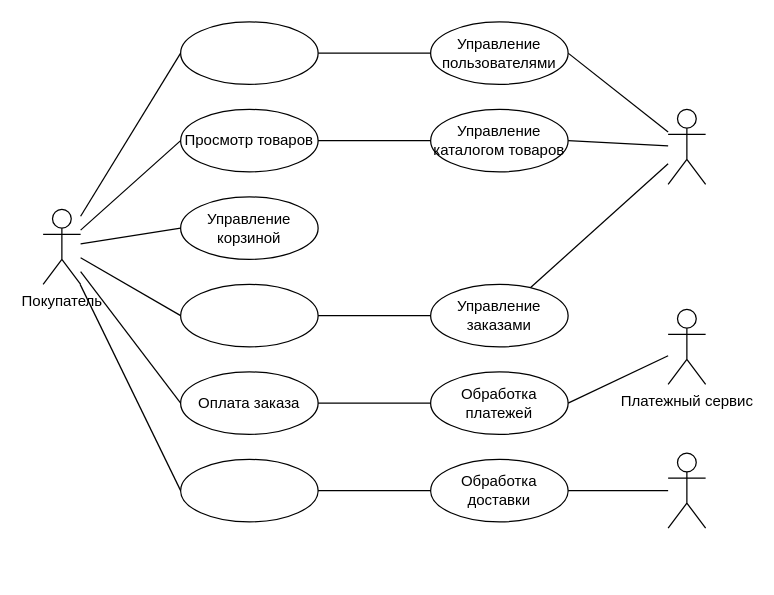
The diagram is 774 pixels wide and 595 high, and some of its shapes have lost their labels. The centre of each missing label's shape, as x and y in pixels:
Администратор: pixel 686 146
Отслеживание заказа: pixel 248 490
Оформление заказа: pixel 248 315
Регистрация и авторизация: pixel 248 52
Сервис доставки: pixel 686 490
